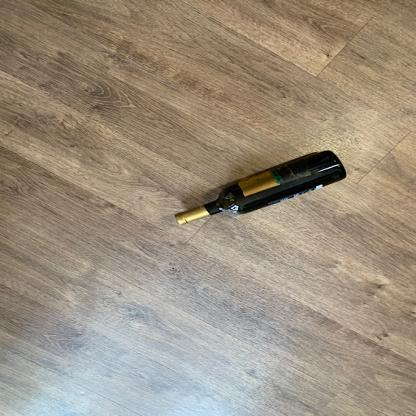trash: (169, 150, 345, 227)
